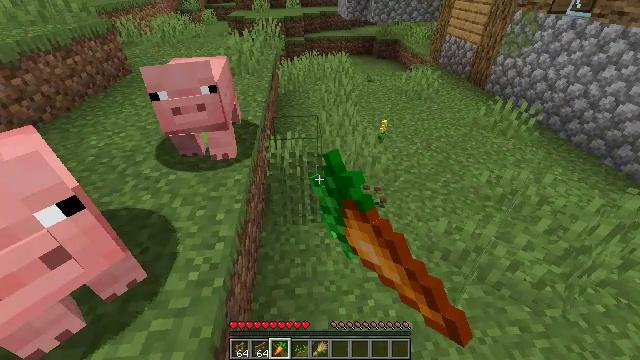pig: (1, 128, 147, 359), (147, 58, 238, 160)
